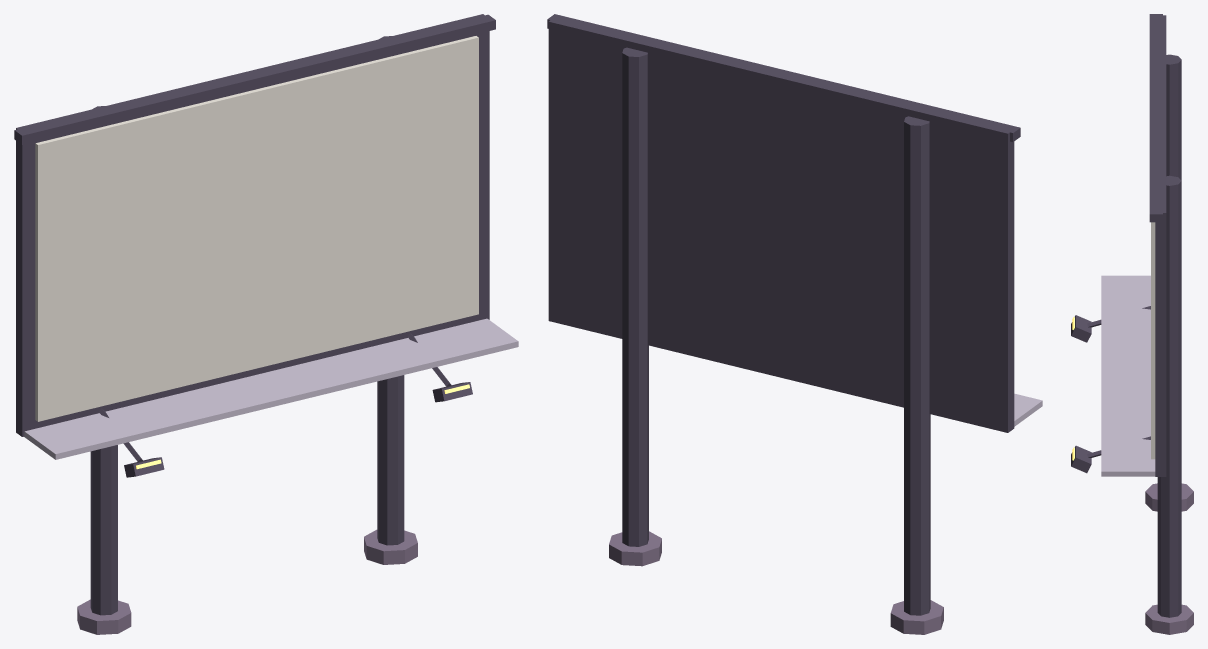
File: billboard.glb
The picture shows the model from 3 angles, left to right: view 1: azimuth 30°, elevation 25°; view 2: azimuth 150°, elevation 25°; view 3: azimuth 270°, elevation 25°; orthographic projection. The views are drawn at different scales.
Parts seen in each view (by area): view 1: panel, billboard; view 2: billboard; view 3: billboard, panel.
Part boxes in pixels (bbox=[...]): panel: bbox=[35, 36, 478, 421]; billboard: bbox=[14, 14, 518, 634]; billboard: bbox=[547, 14, 1042, 634]; billboard: bbox=[1071, 14, 1193, 634]; panel: bbox=[1151, 222, 1155, 459].
Size of the model in its own units: 4.3 by 4.5 by 1.11.
